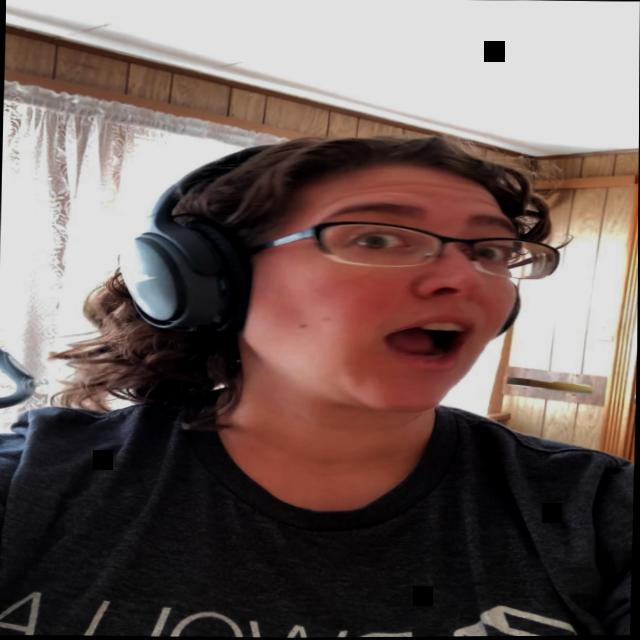NO-Mask: (230, 155, 526, 411)
